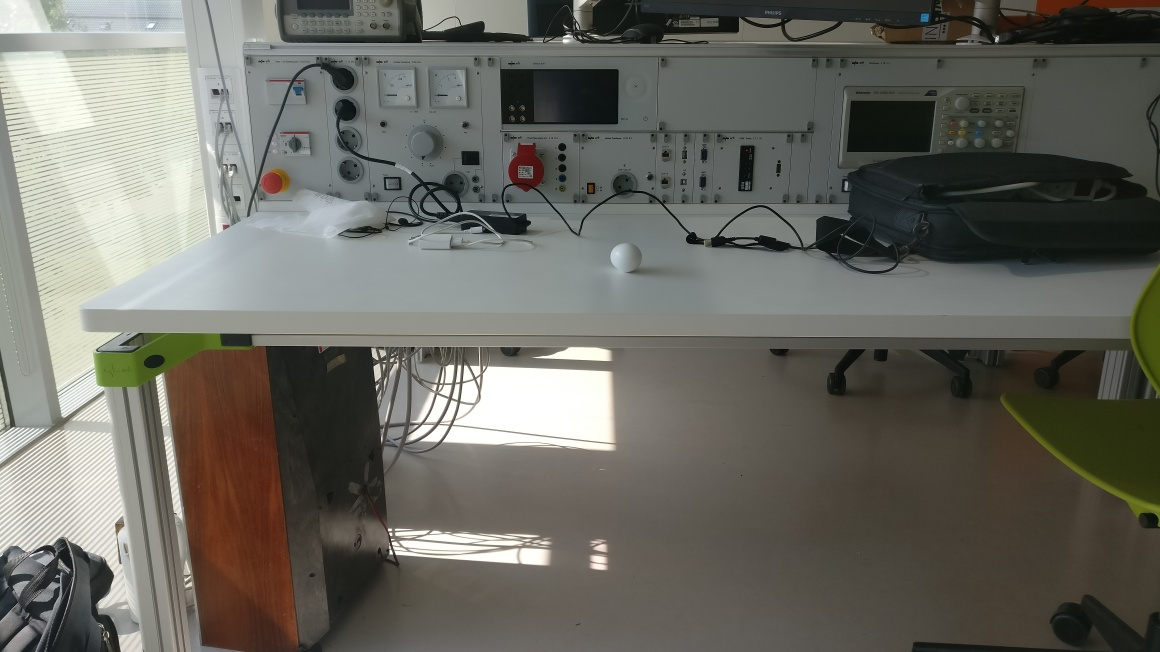egg: (609, 242, 643, 273)
